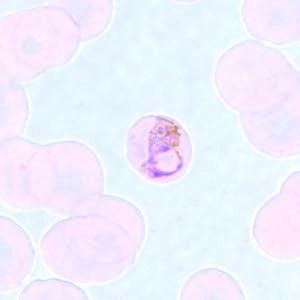Infected: (125, 115, 191, 183)
Uninfected: (41, 215, 134, 282), (215, 41, 295, 115), (30, 139, 104, 212), (73, 193, 147, 257), (12, 5, 82, 69), (0, 135, 55, 213), (239, 97, 300, 158), (252, 193, 300, 262), (46, 2, 115, 43), (0, 216, 36, 293), (242, 0, 300, 44), (181, 266, 248, 300)
